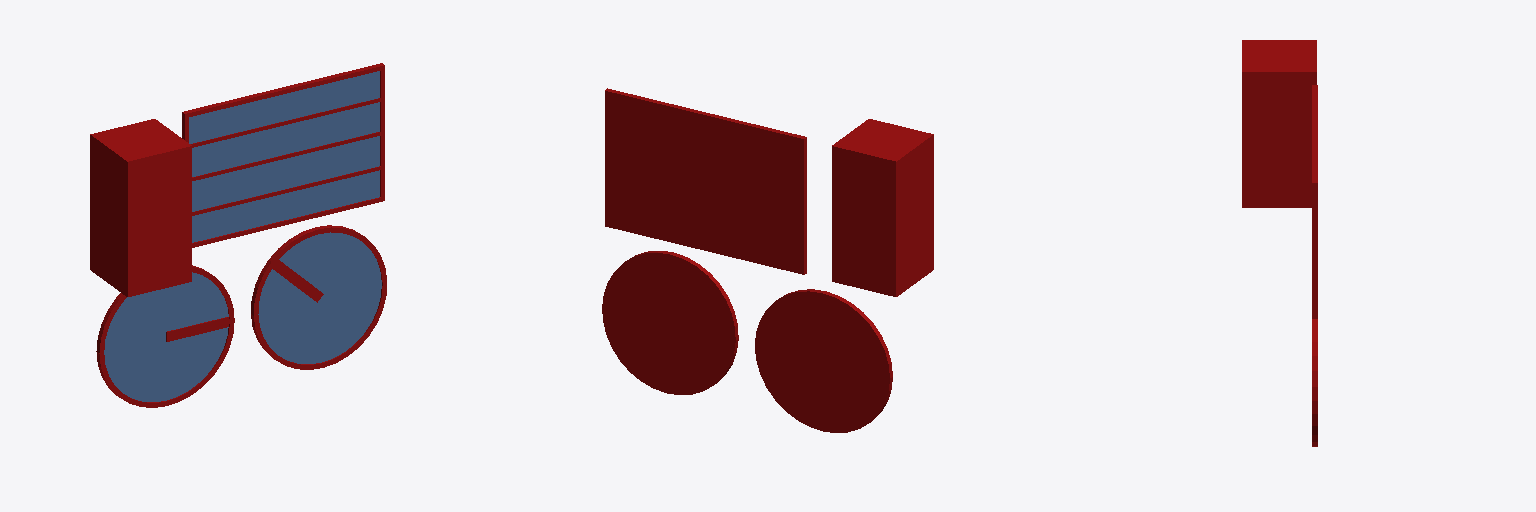
Rendered from etapRojo.obj.
3 renders of one model, left to right at view 1: azimuth 30°, elevation 25°; view 2: azimuth 150°, elevation 25°; view 3: azimuth 270°, elevation 25°, orthographic.
Visible parts, largest first — view 1: Cube.002, Cube, Cylinder.002, Cylinder.001, Cube.001, Cylinder.003, Cylinder, Cube.004, Cube.003, Cube.005, Cube.006, Cube.007; view 2: Cube.001, Cube, Cylinder, Cylinder.003; view 3: Cube, Cube.001, Cylinder.003.
Boxes of the visible parts, x1=… form: Cube.002: x1=189, y1=71, x2=379, y2=242; Cube: x1=90, y1=119, x2=191, y2=296; Cylinder.002: x1=258, y1=232, x2=381, y2=363; Cylinder.001: x1=104, y1=272, x2=228, y2=401; Cube.001: x1=182, y1=63, x2=384, y2=247; Cylinder.003: x1=251, y1=225, x2=386, y2=369; Cylinder: x1=96, y1=265, x2=234, y2=407; Cube.004: x1=192, y1=132, x2=380, y2=180; Cube.003: x1=190, y1=98, x2=380, y2=147; Cube.005: x1=192, y1=166, x2=380, y2=215; Cube.006: x1=166, y1=317, x2=229, y2=341; Cube.007: x1=273, y1=260, x2=323, y2=302; Cube.001: x1=605, y1=88, x2=806, y2=274; Cube: x1=832, y1=119, x2=933, y2=296; Cylinder: x1=755, y1=289, x2=892, y2=432; Cylinder.003: x1=602, y1=251, x2=738, y2=394; Cube: x1=1242, y1=40, x2=1316, y2=207; Cube.001: x1=1312, y1=85, x2=1317, y2=318; Cylinder.003: x1=1312, y1=319, x2=1317, y2=446.
Size of the model in its own units: 9.08 by 8.48 by 2.01.